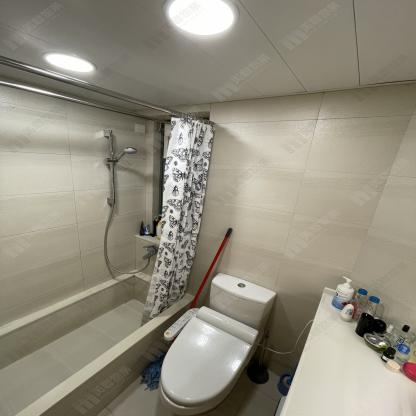Bathtub: (0, 270, 196, 416)
Toilet: (157, 273, 278, 414)
